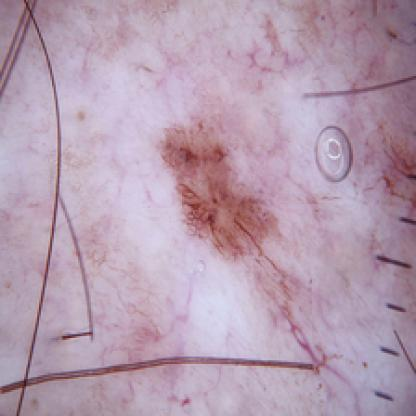benign: (156, 113, 290, 266)
